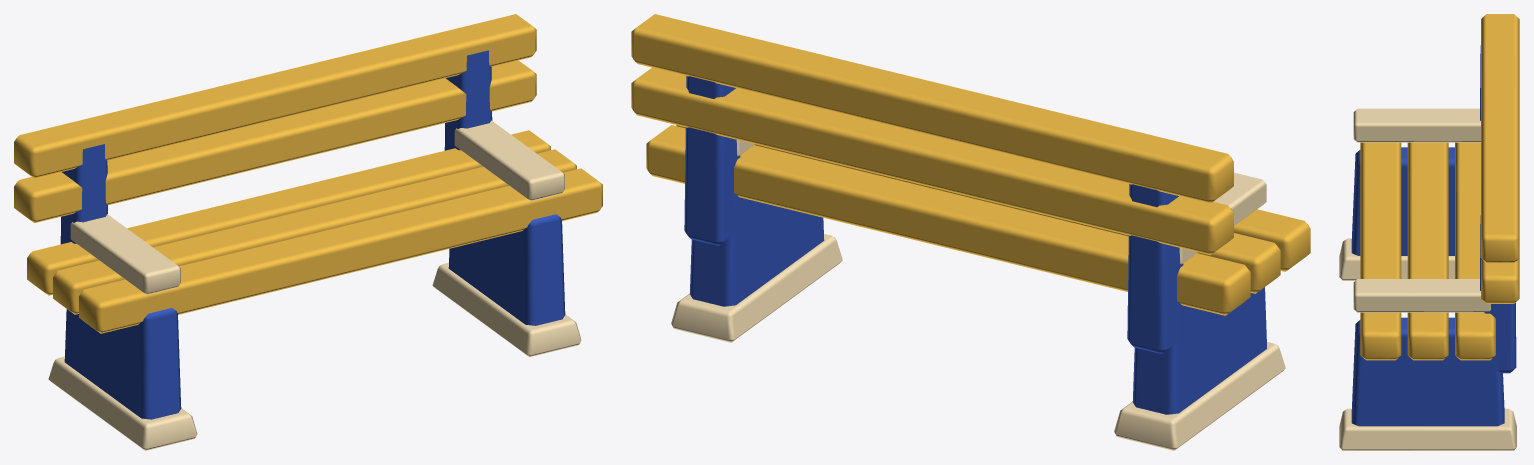
The model's file is bench.glb.
3 views of the same model, side by side, from view 1: azimuth 30°, elevation 25°; view 2: azimuth 150°, elevation 25°; view 3: azimuth 270°, elevation 25° (orthographic). The views are drawn at different scales.
Parts seen in each view (by area): view 1: bench; view 2: bench; view 3: bench.
Part boxes in pixels (bbox=[...]): bench: bbox=[14, 14, 602, 450]; bench: bbox=[631, 14, 1310, 450]; bench: bbox=[1339, 14, 1519, 450].
Size of the model in its own units: 2.14 by 1.02 by 0.7245.
